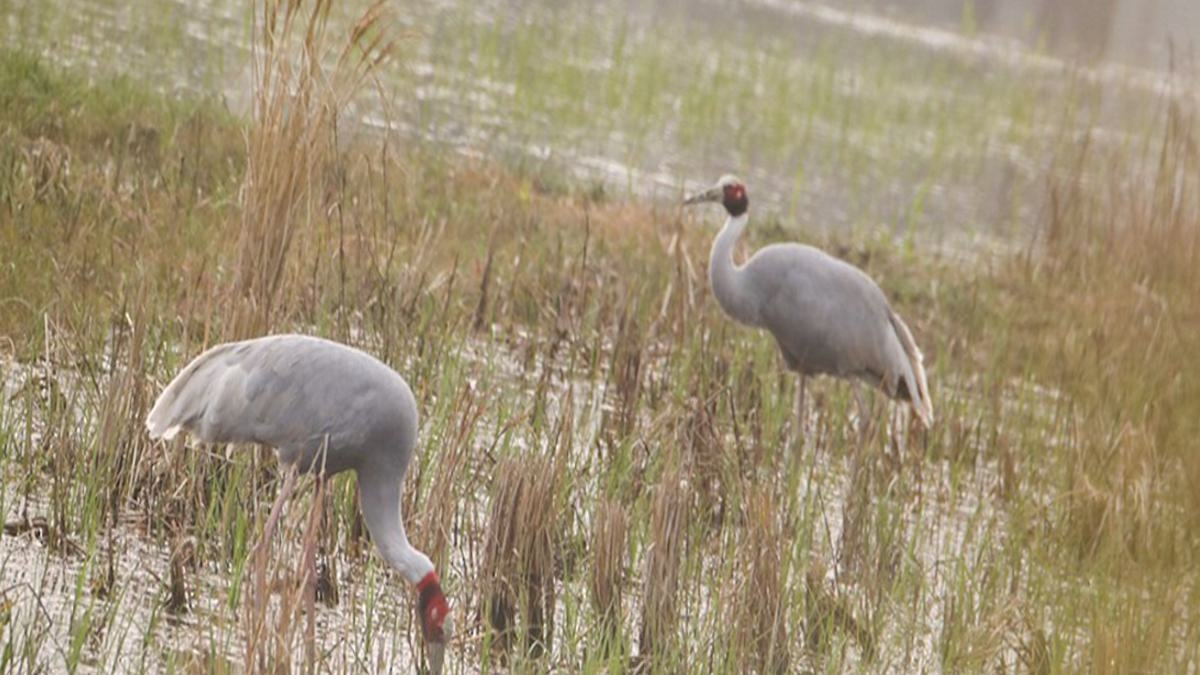crane: (142, 329, 464, 675), (678, 161, 938, 439)
